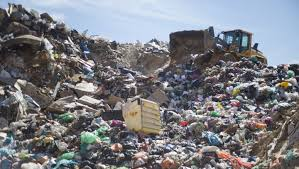garbage: (88, 62, 299, 168), (25, 40, 170, 169), (2, 14, 69, 169)
